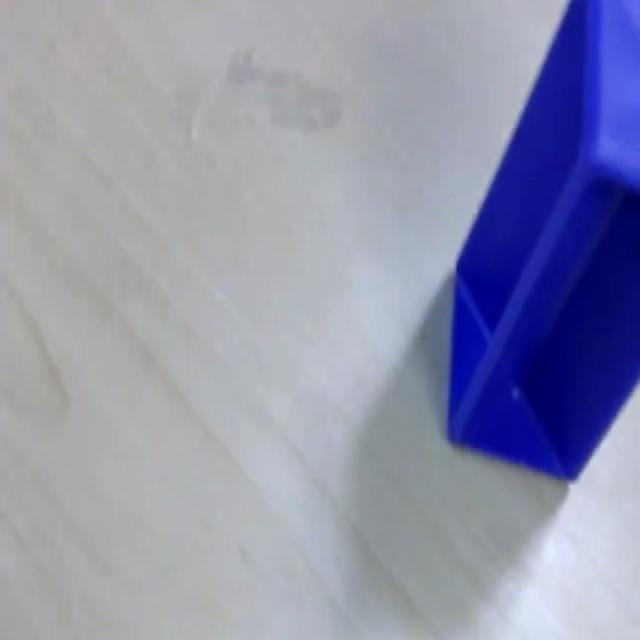blue_block: (444, 0, 639, 483)
